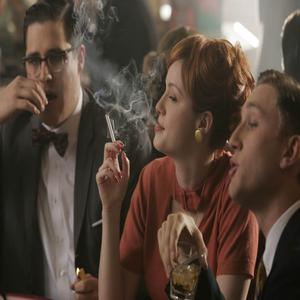cigarette: (106, 112, 119, 150)
